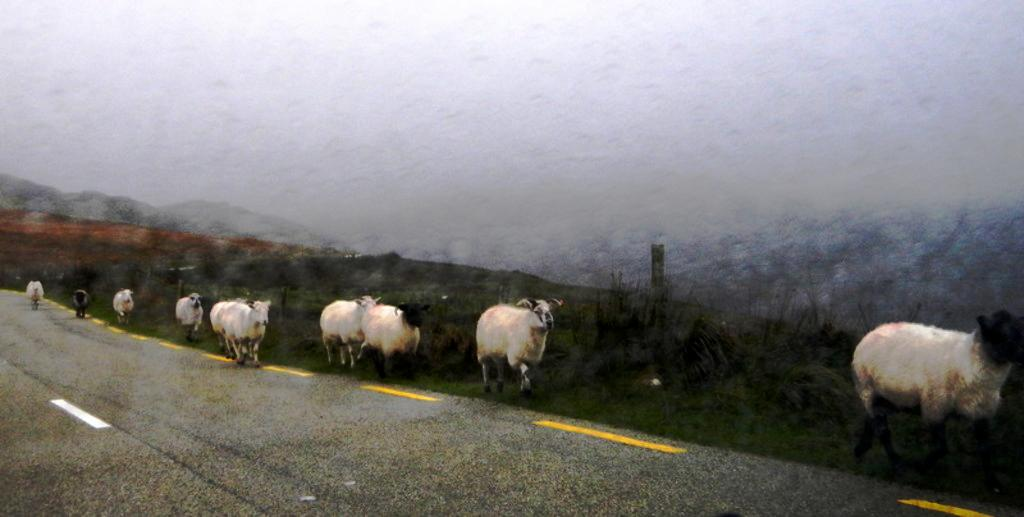Sheep: (856, 311, 1022, 484), (478, 301, 566, 398), (360, 303, 428, 382), (318, 294, 378, 371), (218, 299, 272, 366), (207, 300, 250, 354), (175, 293, 201, 343), (27, 279, 48, 314), (70, 289, 92, 322), (112, 289, 134, 321)
